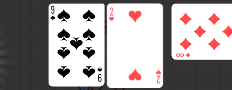2H: (109, 7, 116, 23)
8D: (175, 52, 192, 59)
